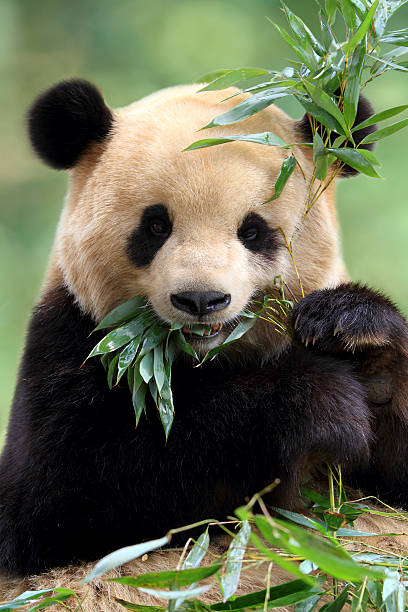panda: (17, 36, 408, 379)
